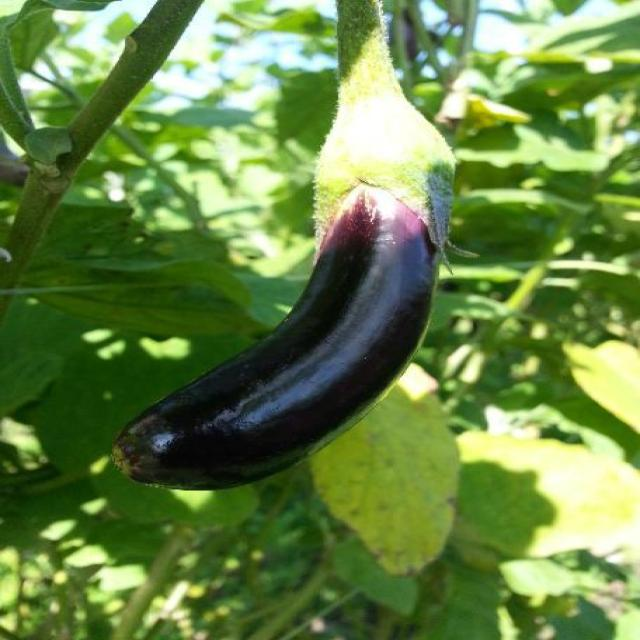eggplant: (110, 112, 443, 490)
